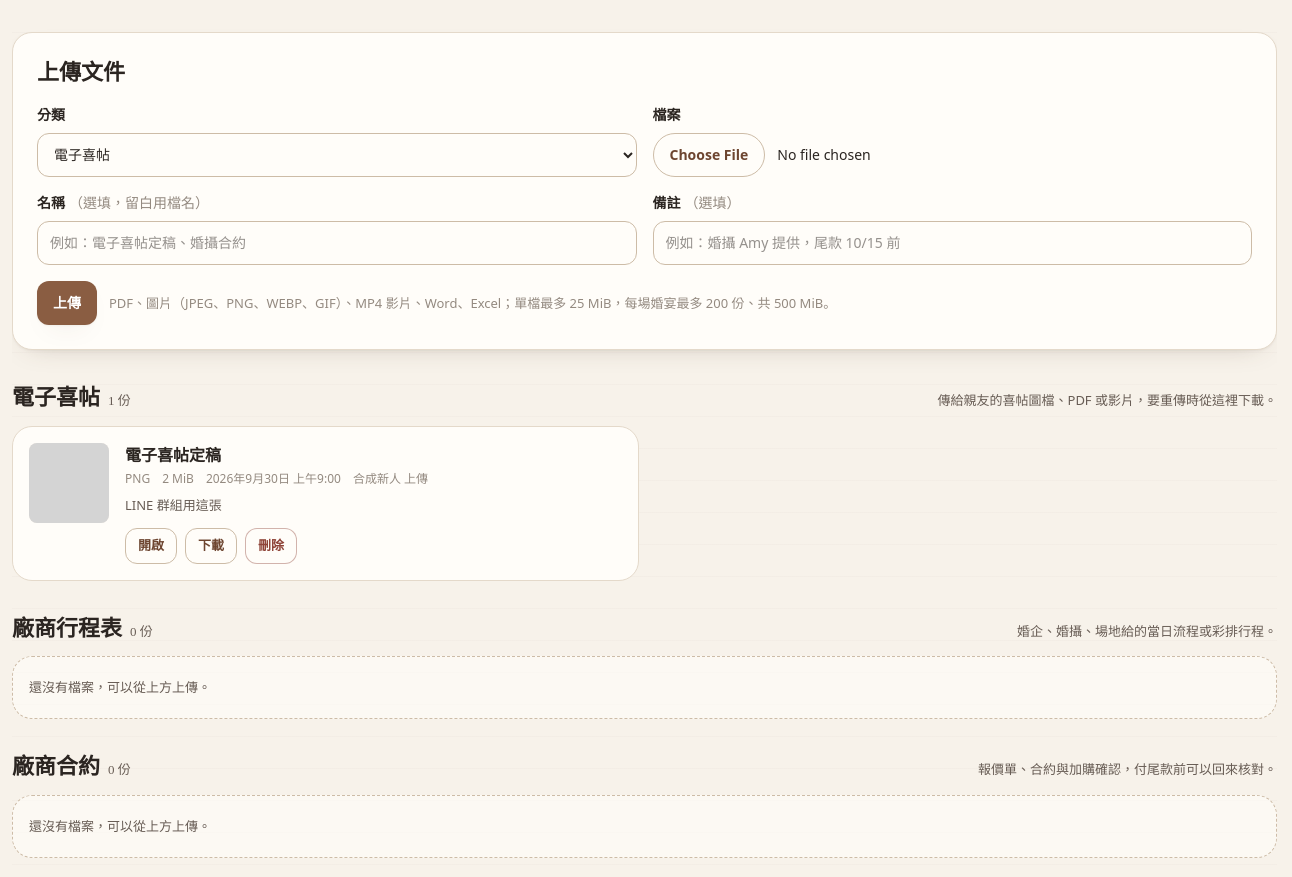
it: WorkspaceDocuments › 確認後刪除文件
The width and height of the screenshot is (1292, 877).
What coordinates should you click on to do the following:
click the button with aria-label "刪除：電子喜帖定稿"
I would click on:
 (271, 546)
Its box is x1=245 y1=528 x2=297 y2=564.
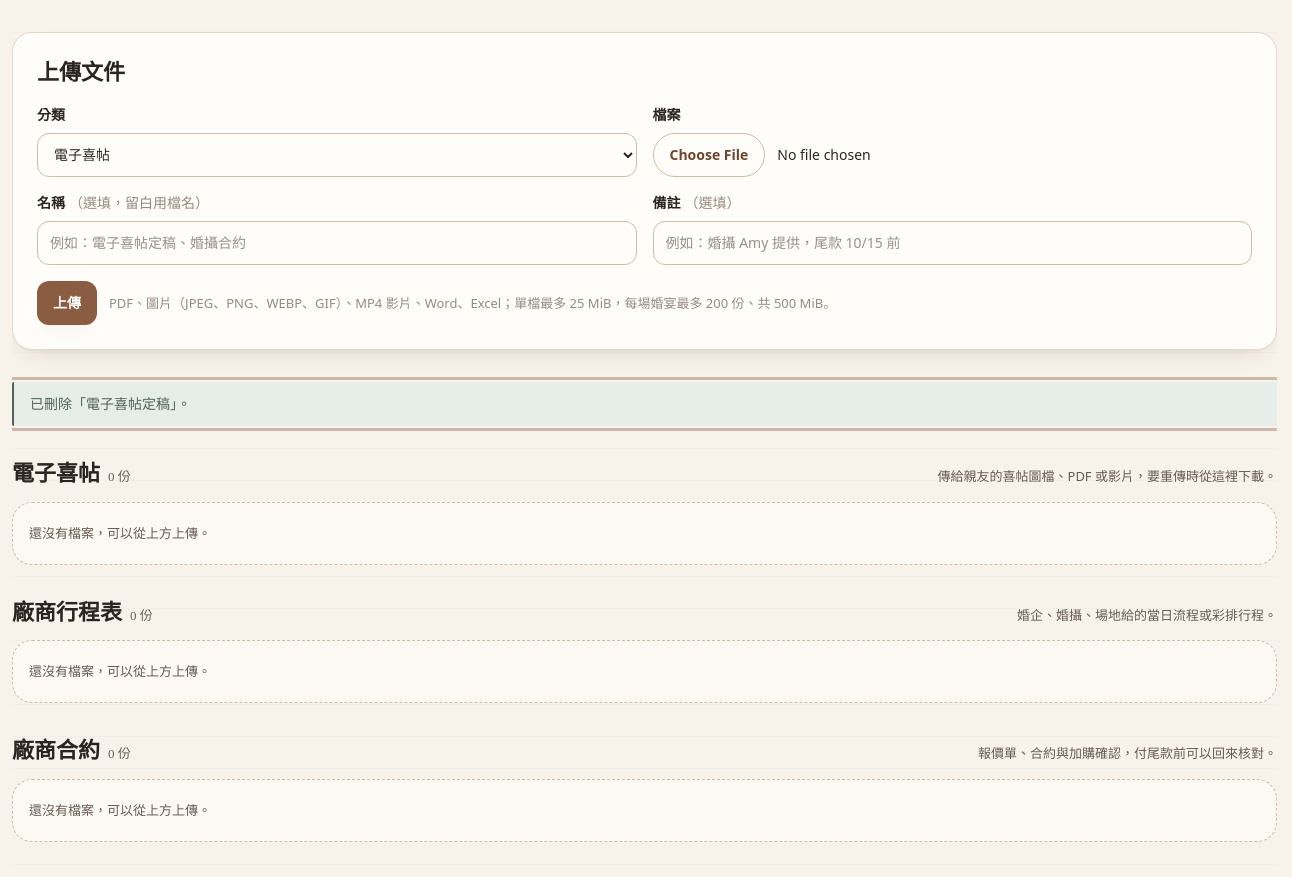
Now the text "LINE 群組用這張" is gone
